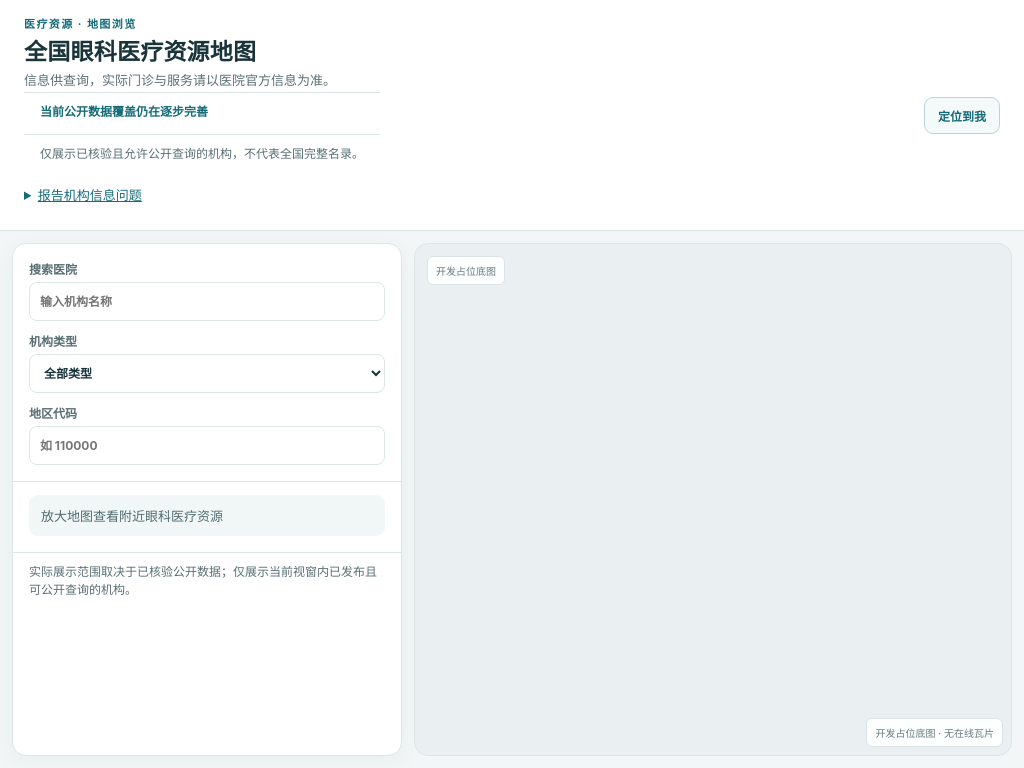
Test case: EyeHospitalsClient › shows distinct empty and nearby API failure states without replacing the viewport browser
Click the button "定位到我".
click(962, 116)  # box [924,97,1000,134]
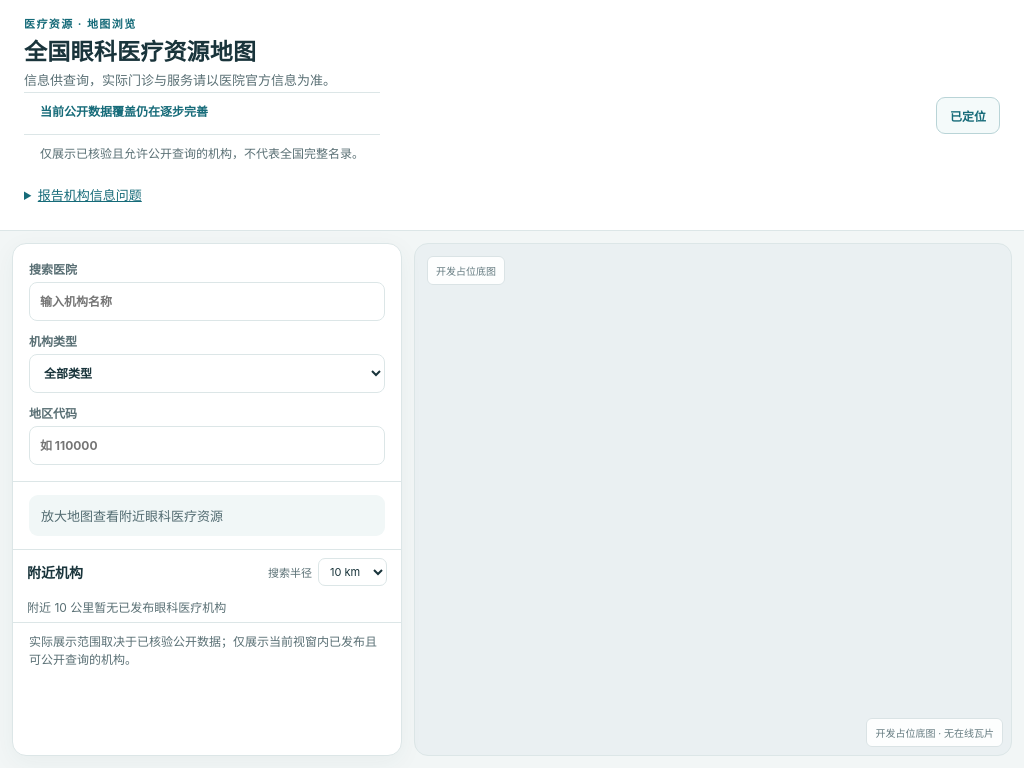
expect the dropdown labelled "机构类型" is enabled: met, box [29,354,385,393]
expect the text "附近 10 公里暂无已发布眼科医疗机构" is shown: met, box [27,600,226,615]
Select "5 km" in the dropdown named "附近搜索半径" at (352, 572), box [318,558,387,586]
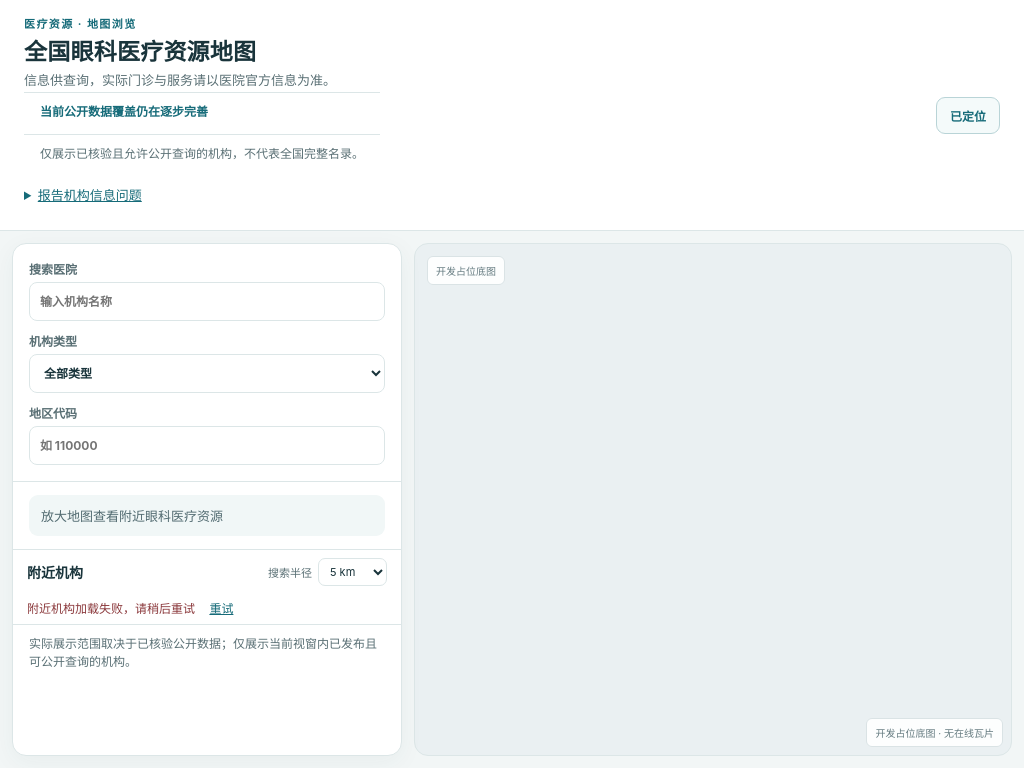
expect the dropdown labelled "机构类型" is enabled: met, box [29,354,385,393]
expect the dropdown named "附近搜索半径" is enabled: met, box [318,558,387,586]
expect the message "附近机构加载失败，请稍后重试 重试" is shown: met, box [27,598,239,617]
